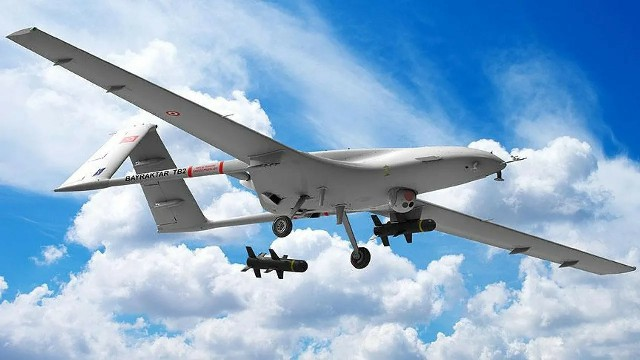maybay_khongnguoilai: (11, 26, 630, 284)
ten_lua: (235, 244, 307, 279)
